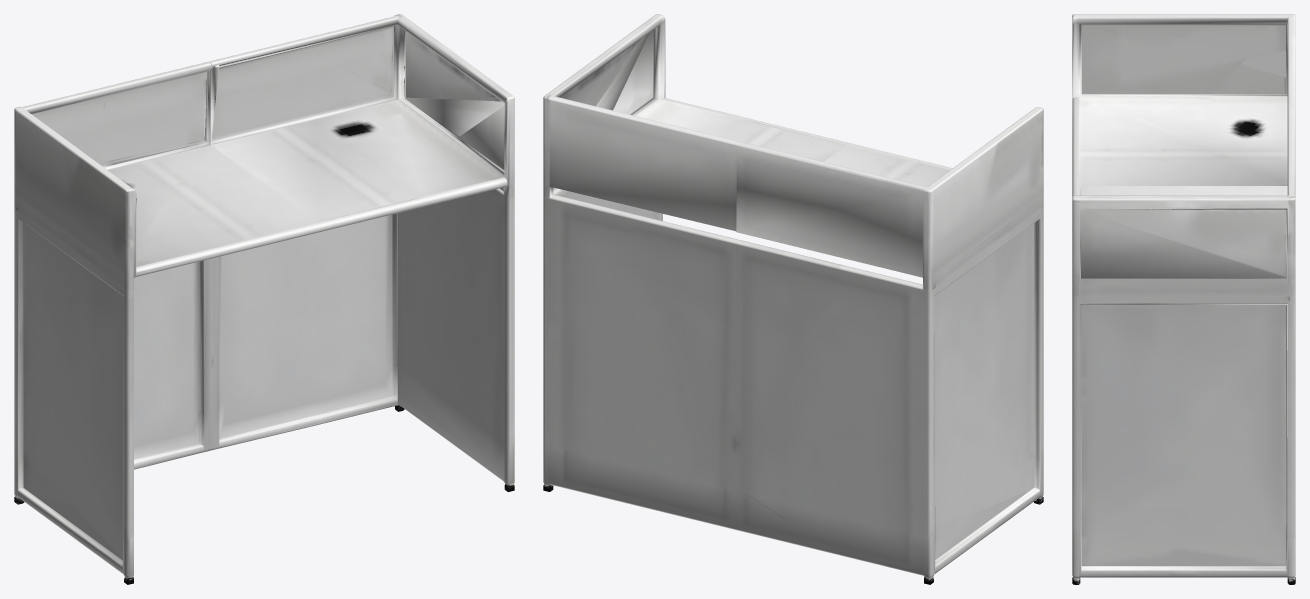
The model's file is Dj Booth White_0311051846_texture.glb.
3 renders of one model, left to right at view 1: azimuth 30°, elevation 25°; view 2: azimuth 150°, elevation 25°; view 3: azimuth 270°, elevation 25°, orthographic. The views are drawn at different scales.
Parts seen in each view (by area): view 1: Mesh_0; view 2: Mesh_0; view 3: Mesh_0.
Part boxes in pixels (<box>): Mesh_0: <box>14,14,514,584</box>; Mesh_0: <box>543,14,1043,584</box>; Mesh_0: <box>1072,14,1295,584</box>.
Bounding box in the file's own units: 1.1 × 1.07 × 0.5594.
1 material, 1 textured.
